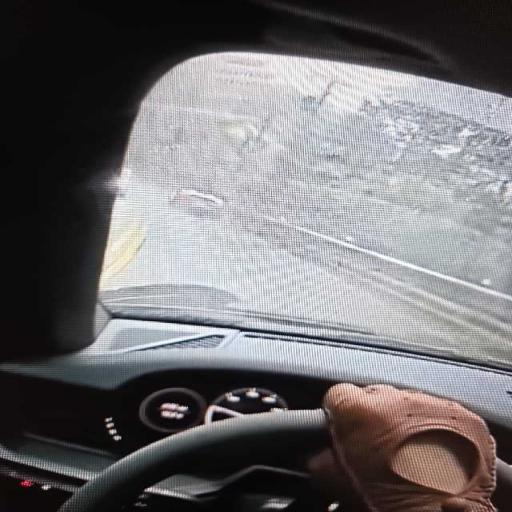car: (0, 0, 511, 511), (170, 190, 224, 216)
lane: (103, 56, 511, 361), (105, 193, 510, 361), (263, 216, 511, 301)
person: (311, 385, 495, 511)
